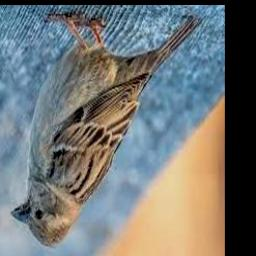Sparrow: (10, 14, 201, 248)
